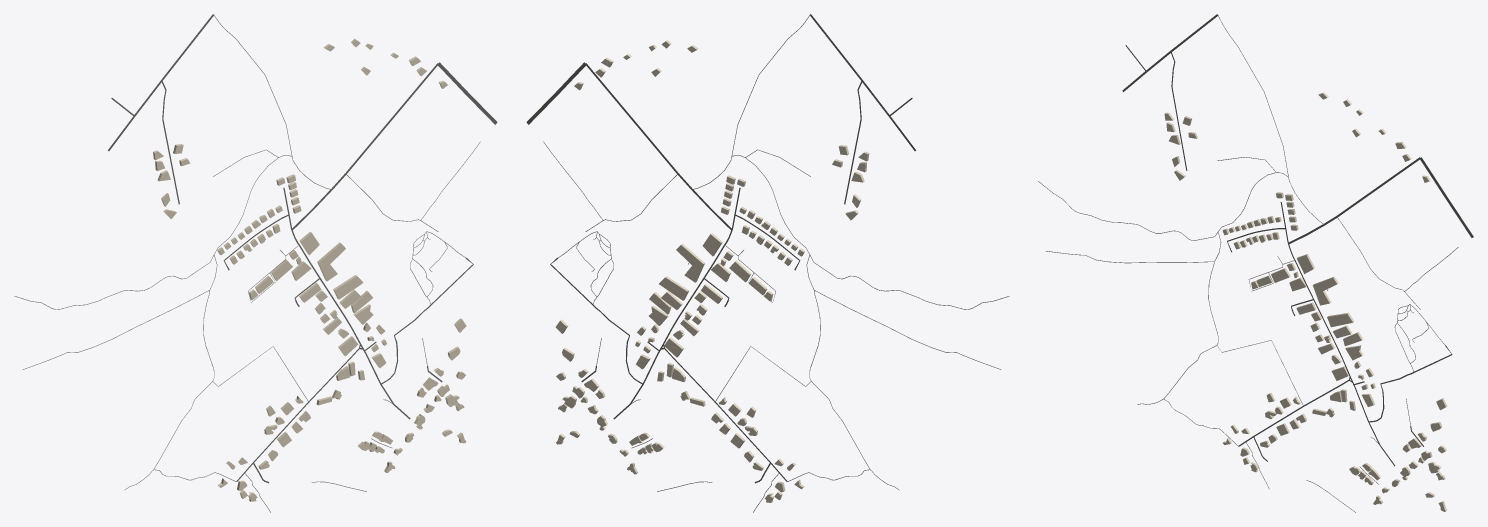
File: historic-palestine-07_24_3494_3186.glb
3 renders of one model, left to right at view 1: azimuth 30°, elevation 25°; view 2: azimuth 150°, elevation 25°; view 3: azimuth 330°, elevation 25°, orthographic. The views are drawn at different scales.
Size of the model in its own units: 1239 by 1263 by 8.7.
